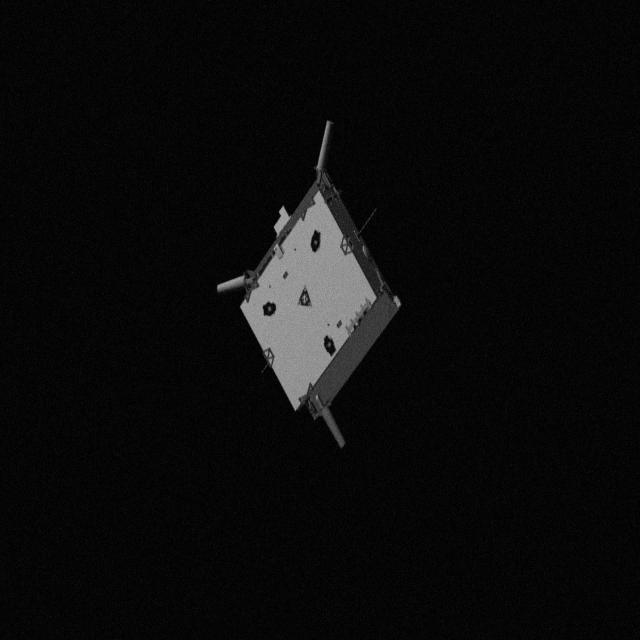satellite: (202, 118, 408, 452)
